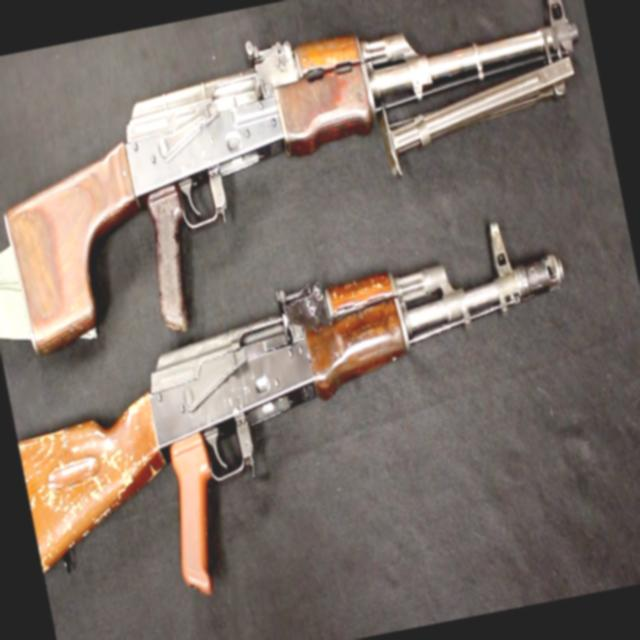ak: (0, 0, 626, 376)
